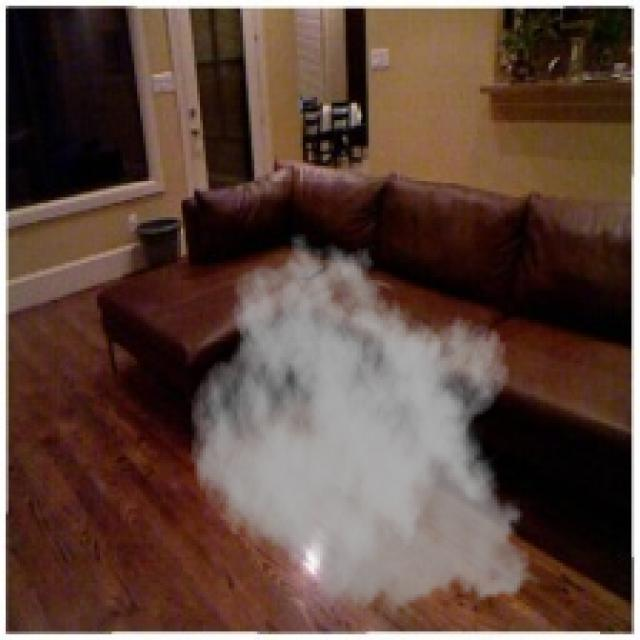smoke: (188, 231, 546, 623)
